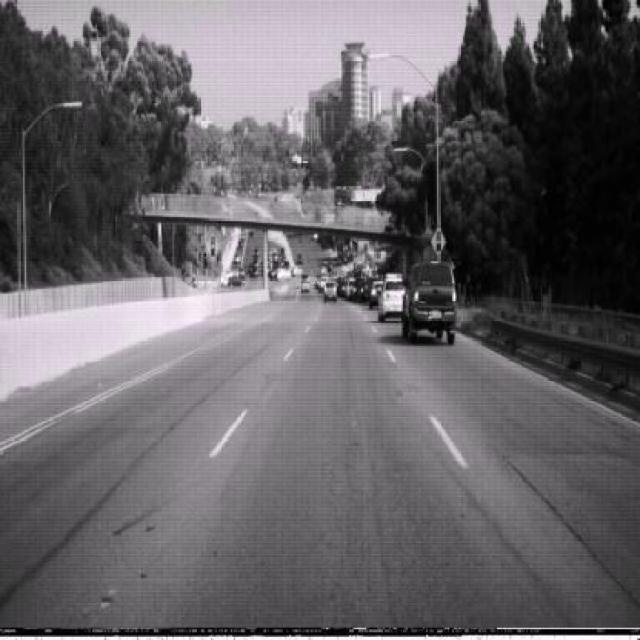signalAhead: (204, 230, 220, 262), (431, 225, 446, 257), (352, 212, 361, 226)
